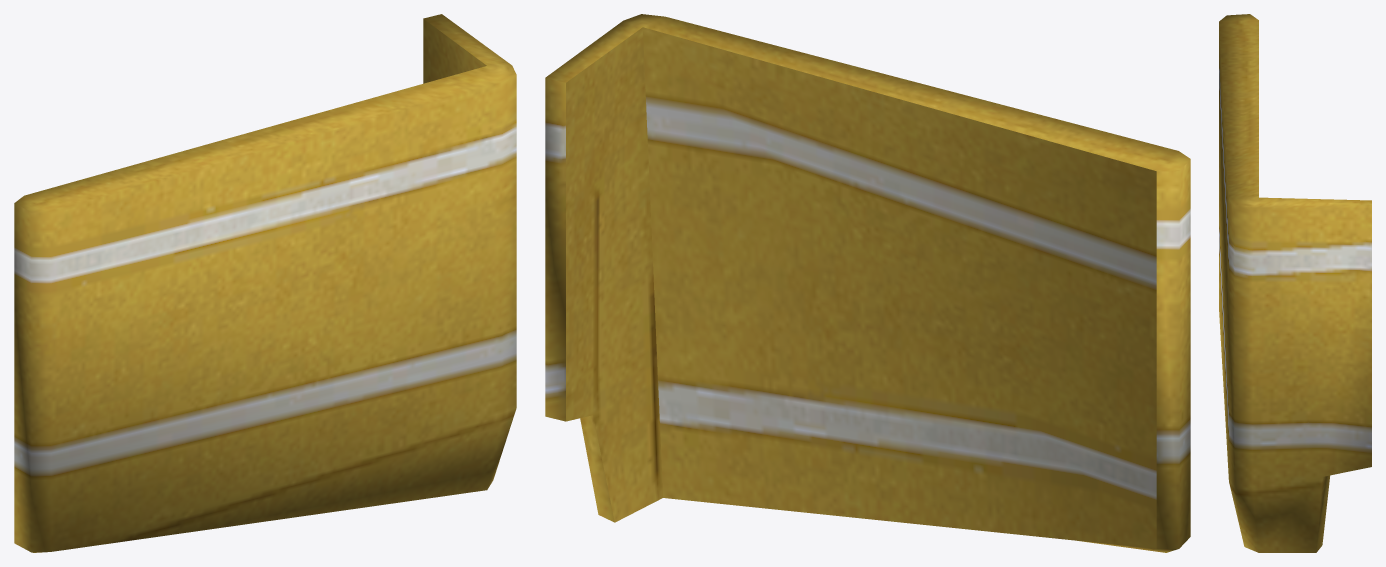
The model's file is p6_pool_towel_unfolded_01_LOD0.obj.
3 renders of one model, left to right at view 1: azimuth 30°, elevation 25°; view 2: azimuth 150°, elevation 25°; view 3: azimuth 270°, elevation 25°, orthographic. The views are drawn at different scales.
Visible parts, largest first — view 1: mtl_p6_pool_lounge_chair_acc; view 2: mtl_p6_pool_lounge_chair_acc; view 3: mtl_p6_pool_lounge_chair_acc.
Boxes of the visible parts, left/top/right/bottom form: mtl_p6_pool_lounge_chair_acc: left=14, top=14, right=516, bottom=552; mtl_p6_pool_lounge_chair_acc: left=545, top=14, right=1190, bottom=552; mtl_p6_pool_lounge_chair_acc: left=1219, top=14, right=1371, bottom=552.
Bounding box in the file's own units: 78.67 × 63.16 × 24.59.
